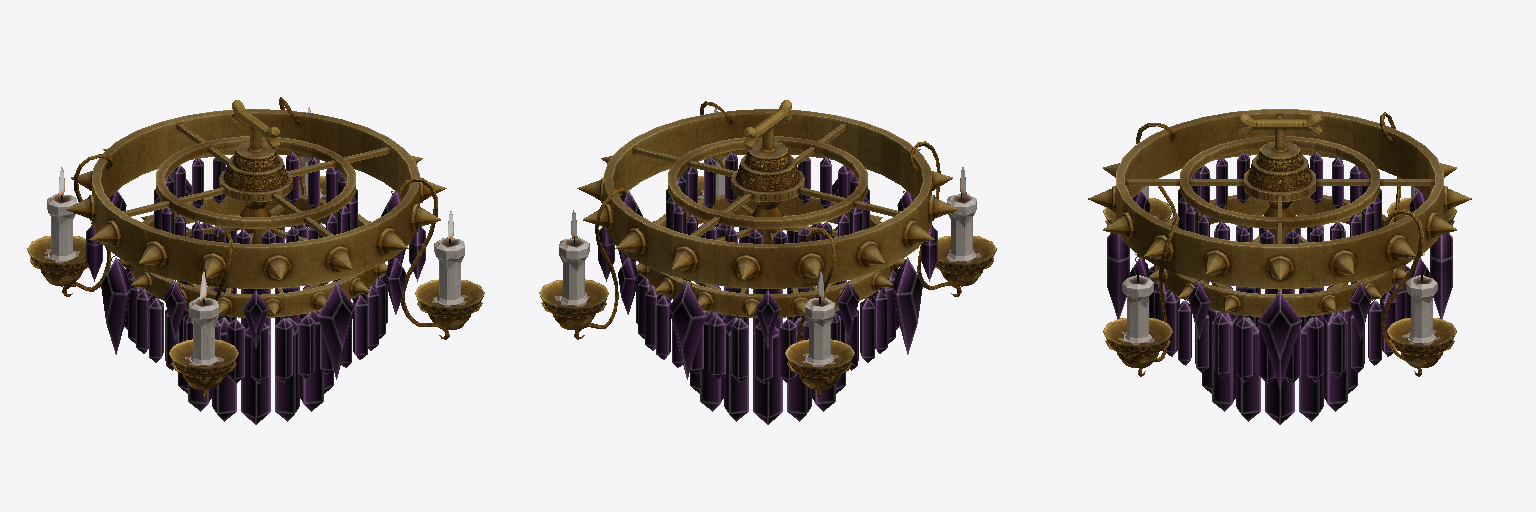
The picture shows the model from 3 angles: view 1: azimuth 30°, elevation 25°; view 2: azimuth 150°, elevation 25°; view 3: azimuth 270°, elevation 25°; orthographic projection.
Visible parts, largest first — view 1: Frame, Crystal, Candle, Hub, Flower; view 2: Frame, Crystal, Candle, Hub, Flower; view 3: Frame, Crystal, Hub, Candle, Flower.
Boxes of the visible parts, box(x1,y1,x2,y2) form: Frame: box(27, 97, 484, 398); Crystal: box(86, 152, 425, 424); Candle: box(47, 157, 464, 364); Hub: box(219, 127, 292, 243); Flower: box(30, 222, 482, 389); Frame: box(539, 100, 996, 397); Crystal: box(598, 152, 937, 424); Candle: box(559, 157, 976, 364); Hub: box(731, 127, 804, 243); Flower: box(541, 222, 993, 389); Frame: box(1088, 109, 1471, 376); Crystal: box(1107, 152, 1452, 424); Hub: box(1244, 128, 1315, 243); Candle: box(1122, 186, 1437, 342); Flower: box(1105, 220, 1454, 367).
Size of the model in its own units: 848 by 692 by 848.
Materials: 7 (6 with a texture image).